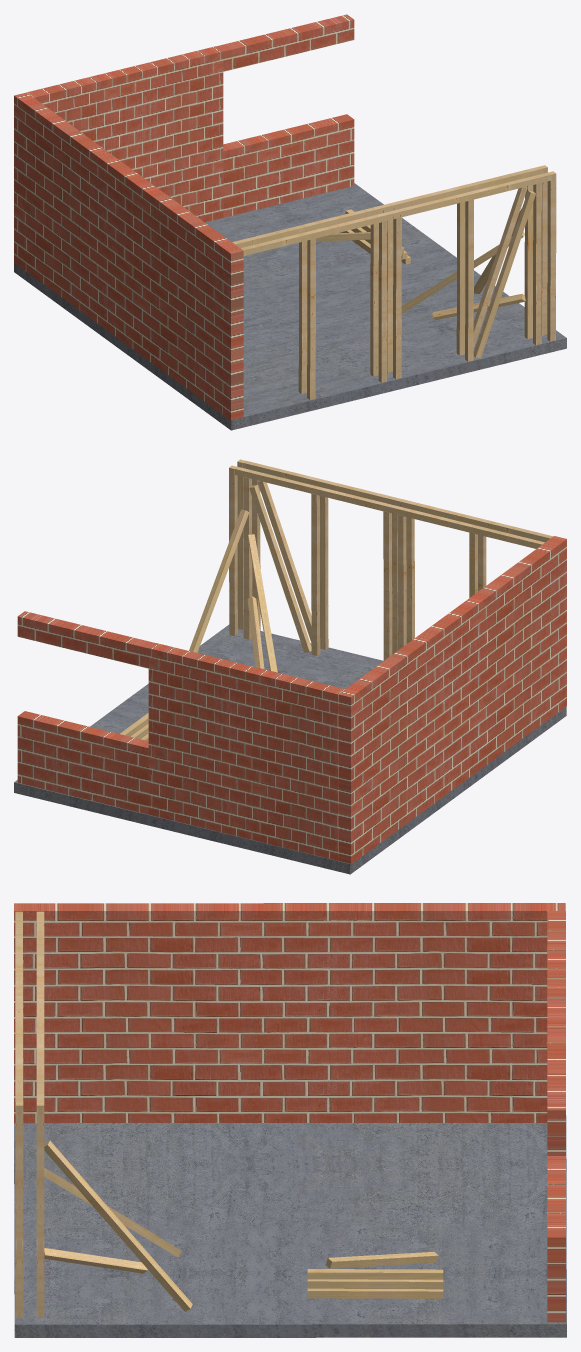
Rendered from Construction.fbx.
3 renders of one model, top to bottom at view 1: azimuth 30°, elevation 25°; view 2: azimuth 150°, elevation 25°; view 3: azimuth 270°, elevation 25°, orthographic. The views are drawn at different scales.
Parts seen in each view (by area): view 1: pCube7, pCube9, pCube2, pCube5, pCube44, pCube12, pCube13, pCube26, pCube15, pCube21, pCube27, pCube23 (+11 smaller); view 2: pCube7, pCube2, pCube9, pCube5, pCube44, pCube13, pCube12, pCube27, pCube26, pCube22, pCube30, pCube18 (+11 smaller); view 3: pCube7, pCube9, pCube5, pCube2, pCube30, pCube44, pCube14, pCube15, pCube13, pCube12, pCube35, pCube41 (+4 smaller).
Boxes of the visible parts, left/top/right/bottom form: pCube7: left=14, top=92, right=243, bottom=420; pCube9: left=14, top=183, right=566, bottom=430; pCube2: left=27, top=46, right=223, bottom=222; pCube5: left=223, top=114, right=354, bottom=217; pCube44: left=216, top=14, right=354, bottom=71; pCube12: left=240, top=172, right=550, bottom=255; pCube13: left=232, top=166, right=542, bottom=248; pCube26: left=473, top=190, right=535, bottom=358; pCube15: left=547, top=171, right=556, bottom=341; pCube21: left=378, top=221, right=387, bottom=382; pCube27: left=473, top=186, right=527, bottom=348; pCube23: left=465, top=199, right=473, bottom=361; pCube7: left=338, top=536, right=566, bottom=864; pCube2: left=148, top=643, right=344, bottom=860; pCube9: left=14, top=624, right=566, bottom=874; pCube5: left=17, top=711, right=148, bottom=814; pCube44: left=17, top=611, right=155, bottom=668; pCube13: left=234, top=466, right=544, bottom=548; pCube12: left=243, top=460, right=552, bottom=542; pCube27: left=249, top=485, right=311, bottom=652; pCube26: left=257, top=481, right=311, bottom=642; pCube22: left=311, top=493, right=320, bottom=655; pCube30: left=189, top=509, right=249, bottom=652; pCube18: left=383, top=511, right=392, bottom=660; pCube7: left=14, top=903, right=565, bottom=1123; pCube9: left=14, top=1115, right=566, bottom=1337; pCube5: left=547, top=1156, right=565, bottom=1322; pCube2: left=547, top=911, right=565, bottom=1155; pCube30: left=44, top=1140, right=192, bottom=1311; pCube44: left=547, top=1029, right=565, bottom=1136; pCube14: left=36, top=1102, right=44, bottom=1317; pCube15: left=15, top=1102, right=23, bottom=1317; pCube13: left=36, top=911, right=44, bottom=1101; pCube12: left=15, top=911, right=22, bottom=1108; pCube35: left=307, top=1269, right=443, bottom=1279; pCube41: left=307, top=1288, right=443, bottom=1298.
Bounding box in the file's own units: 44.06 × 22.18 × 49.16.
3 materials, 3 textured.
